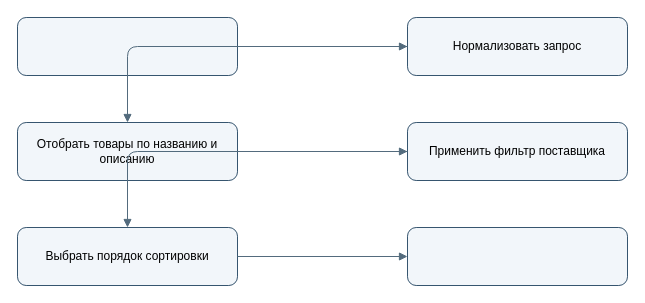
Image size: 645x303. Some labels were removed from this diagram. The centre of each missing label's shape, as x and y in pixels:
"Ввести строку поиска" goes at [127,46].
"Обновить список без перезапуска окна" goes at [517,256].
